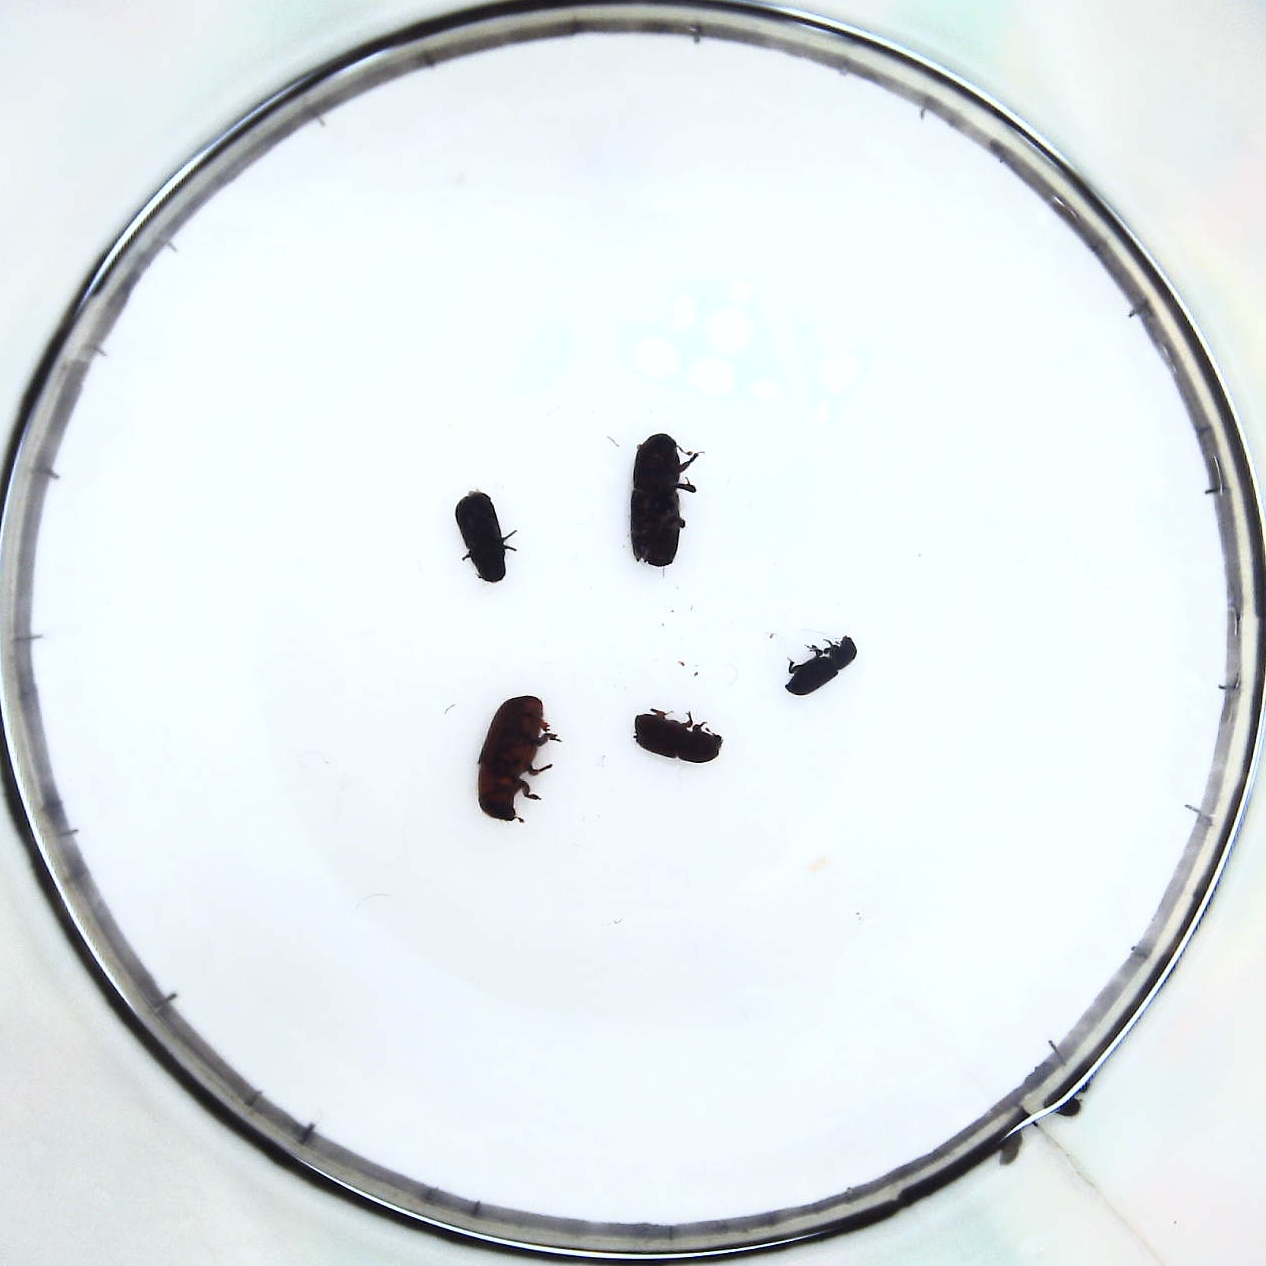Boerner: (632, 427, 687, 568)
Leconte: (479, 694, 548, 825)
Linnaeus: (630, 712, 721, 765)
armandi: (451, 492, 505, 583)
coleoptera: (781, 640, 860, 694)
